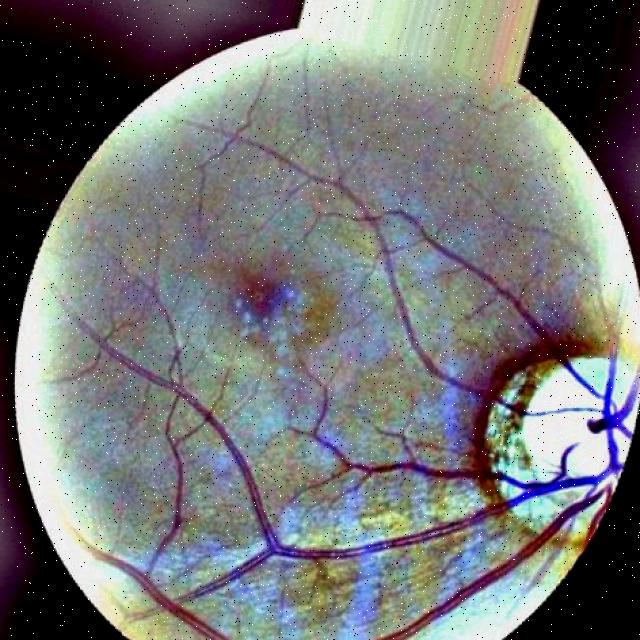Macula: (239, 274, 293, 323)
Nerves: (89, 328, 606, 640), (243, 140, 637, 437), (376, 491, 599, 640)
Optic Disk: (518, 357, 640, 485)
